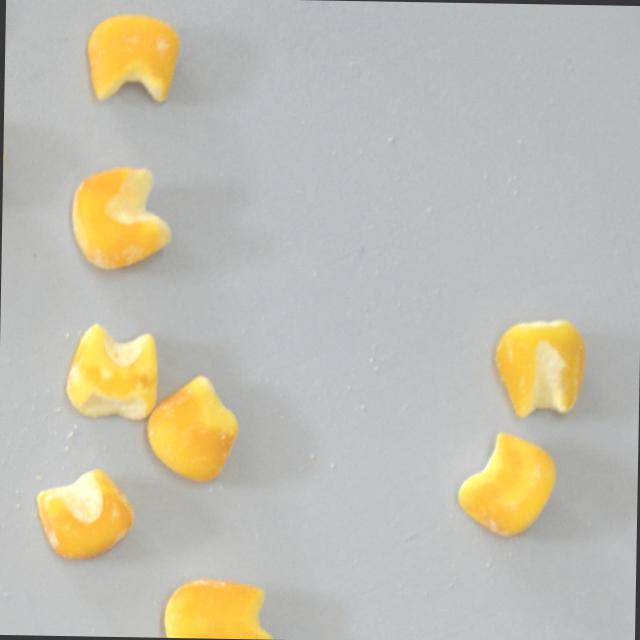no_canjicado: (147, 374, 241, 482), (494, 318, 589, 418)
pelicula: (70, 163, 174, 272), (458, 430, 558, 538), (35, 467, 136, 562), (65, 323, 161, 420), (84, 12, 182, 105), (163, 576, 277, 639)
